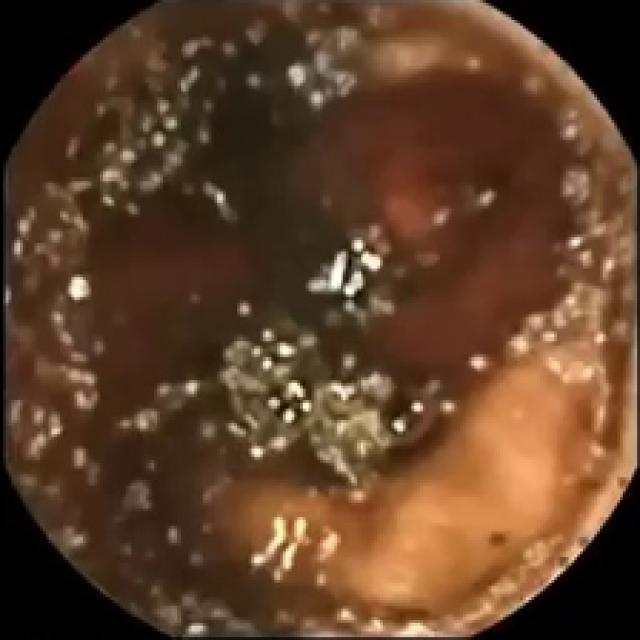bleeding: (297, 62, 563, 378), (85, 233, 260, 403)
